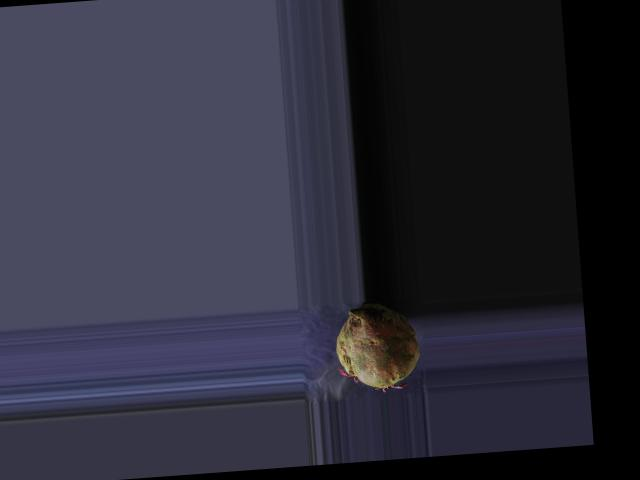beet: (333, 300, 421, 394)
